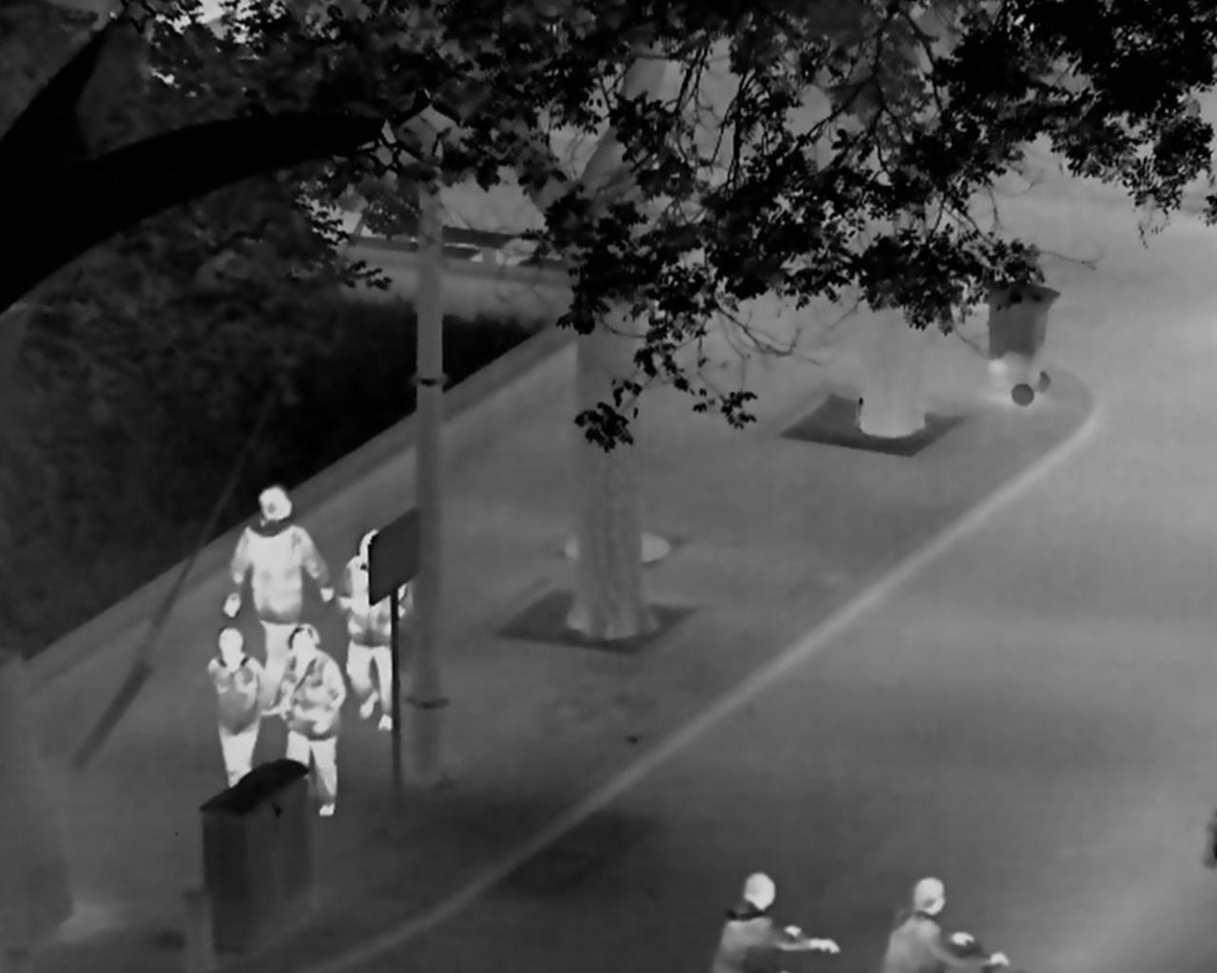person: (226, 485, 336, 716), (337, 527, 411, 731), (709, 869, 842, 973), (277, 624, 344, 818), (878, 875, 1010, 973), (207, 627, 263, 791)
